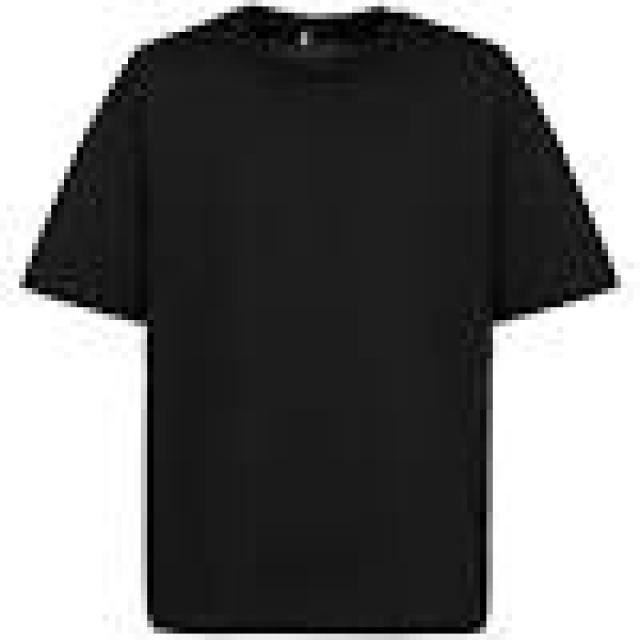Shirt: (38, 5, 600, 638)
